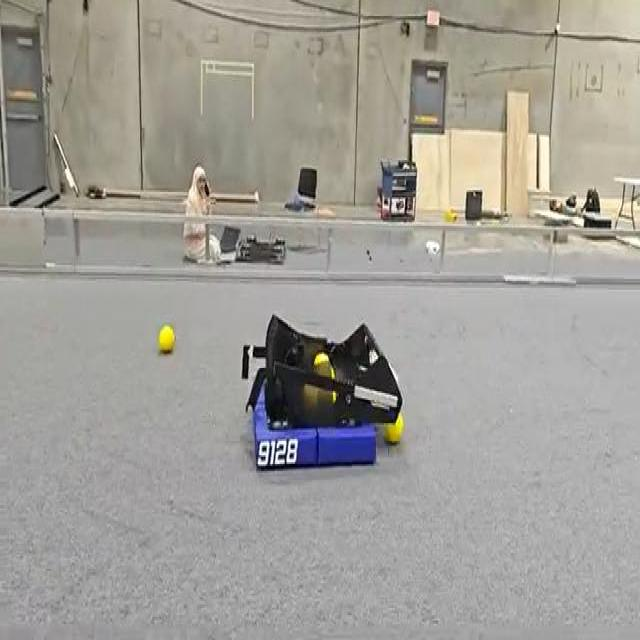Fuel: (383, 412, 402, 442), (158, 325, 175, 354)
